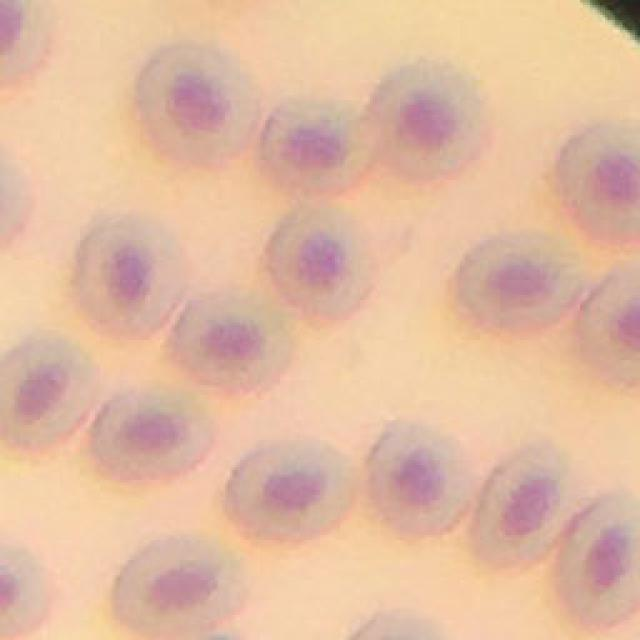RBC: (138, 42, 260, 164), (372, 60, 487, 180), (115, 538, 245, 640), (75, 218, 185, 338), (228, 440, 352, 542), (475, 442, 575, 568), (172, 290, 292, 392), (458, 235, 585, 330), (268, 206, 372, 318), (370, 422, 470, 538), (0, 338, 98, 450), (92, 392, 212, 482), (557, 122, 640, 245), (562, 500, 640, 628), (262, 96, 368, 190), (579, 262, 640, 388), (0, 0, 48, 81)
